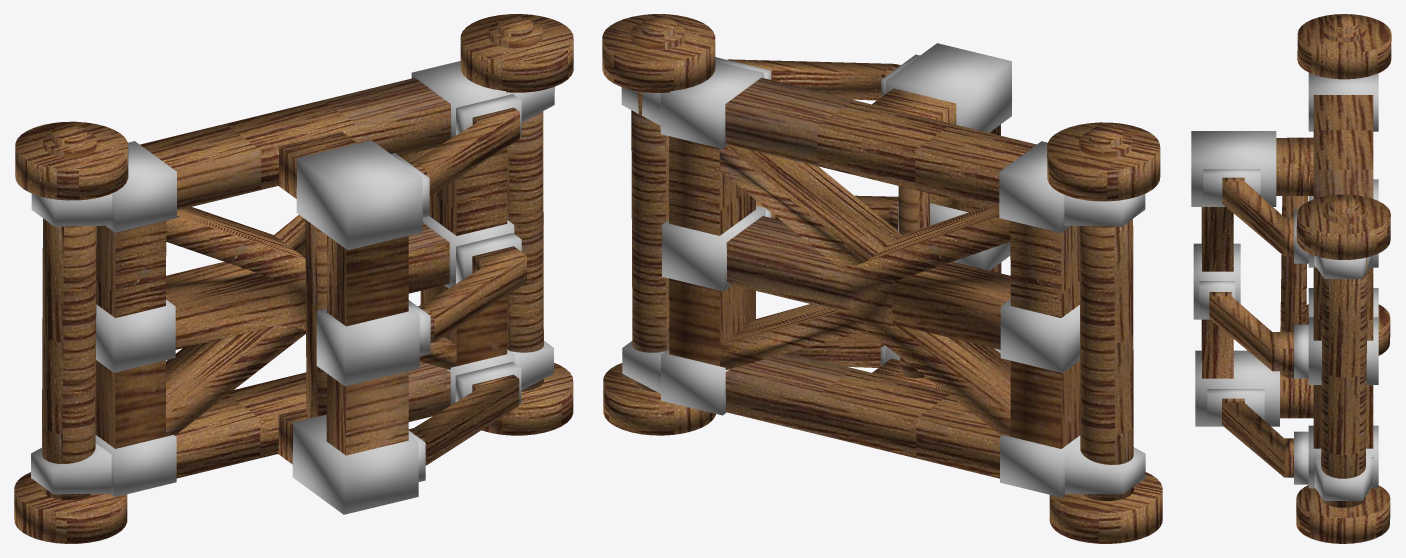
Rendered from Catapult-body.fbx.
3 views of the same model, side by side, from view 1: azimuth 30°, elevation 25°; view 2: azimuth 150°, elevation 25°; view 3: azimuth 270°, elevation 25° (orthographic). The views are drawn at different scales.
Visible parts, largest first — view 1: Cube, Cube.007, Cube.010, Cube.006, Cube.002, Cube.003; view 2: Cube, Cube.007, Cube.006, Cube.010, Cube.003; view 3: Cube, Cube.006, Cube.010, Cube.002, Cube.007, Cube.003.
Part boxes in pixels (<box>): Cube: <box>14,14,573,543</box>; Cube.007: <box>31,141,176,496</box>; Cube.010: <box>296,140,429,250</box>; Cube.006: <box>411,61,554,404</box>; Cube.002: <box>292,414,425,514</box>; Cube.003: <box>316,300,430,386</box>; Cube: <box>602,14,1162,543</box>; Cube.007: <box>999,141,1145,497</box>; Cube.006: <box>621,57,771,415</box>; Cube.010: <box>881,43,1011,132</box>; Cube.003: <box>898,203,1010,270</box>; Cube: <box>1201,14,1391,543</box>; Cube.006: <box>1294,209,1378,500</box>; Cube.010: <box>1191,131,1276,206</box>; Cube.002: <box>1195,350,1279,426</box>; Cube.007: <box>1308,72,1378,317</box>; Cube.003: <box>1193,243,1240,319</box>.
Size of the model in its own units: 11.11 by 7.83 by 4.26.
